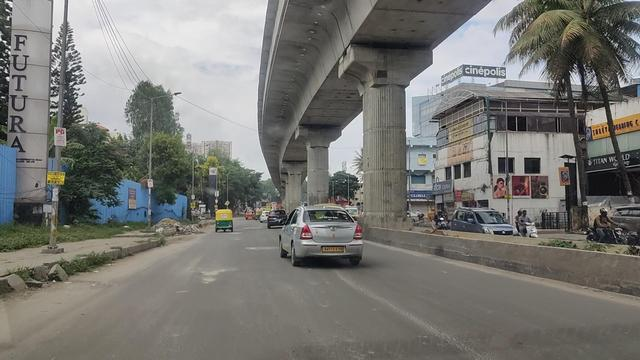LMV: (277, 204, 363, 266), (215, 208, 236, 231)
RoadDamages: (436, 316, 507, 360), (390, 294, 427, 316), (353, 275, 386, 292)
